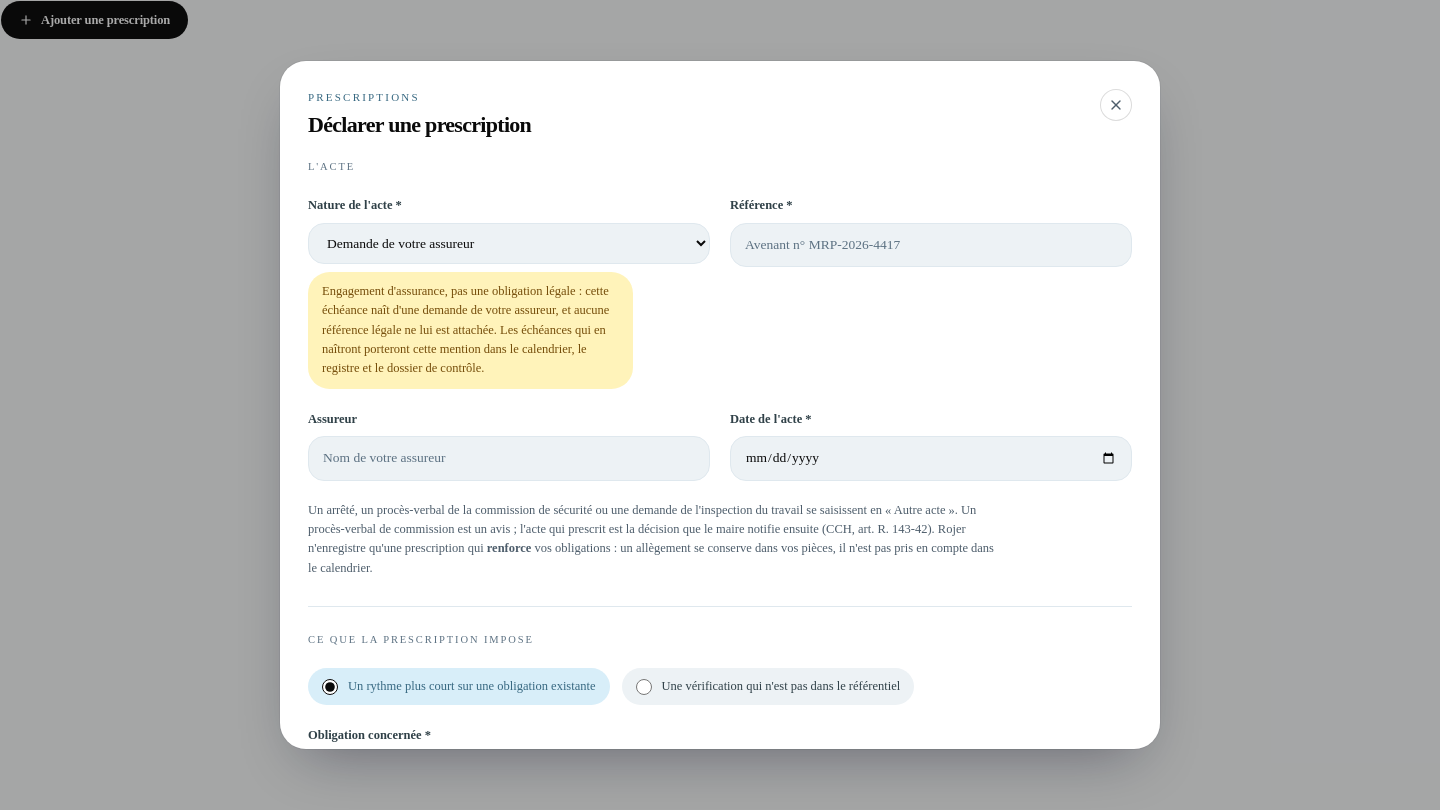
Test: NouvellePrescription › la croix ferme la modal
Click the button named "Fermer". click: [1116, 105]
box: [1100,89,1132,121]
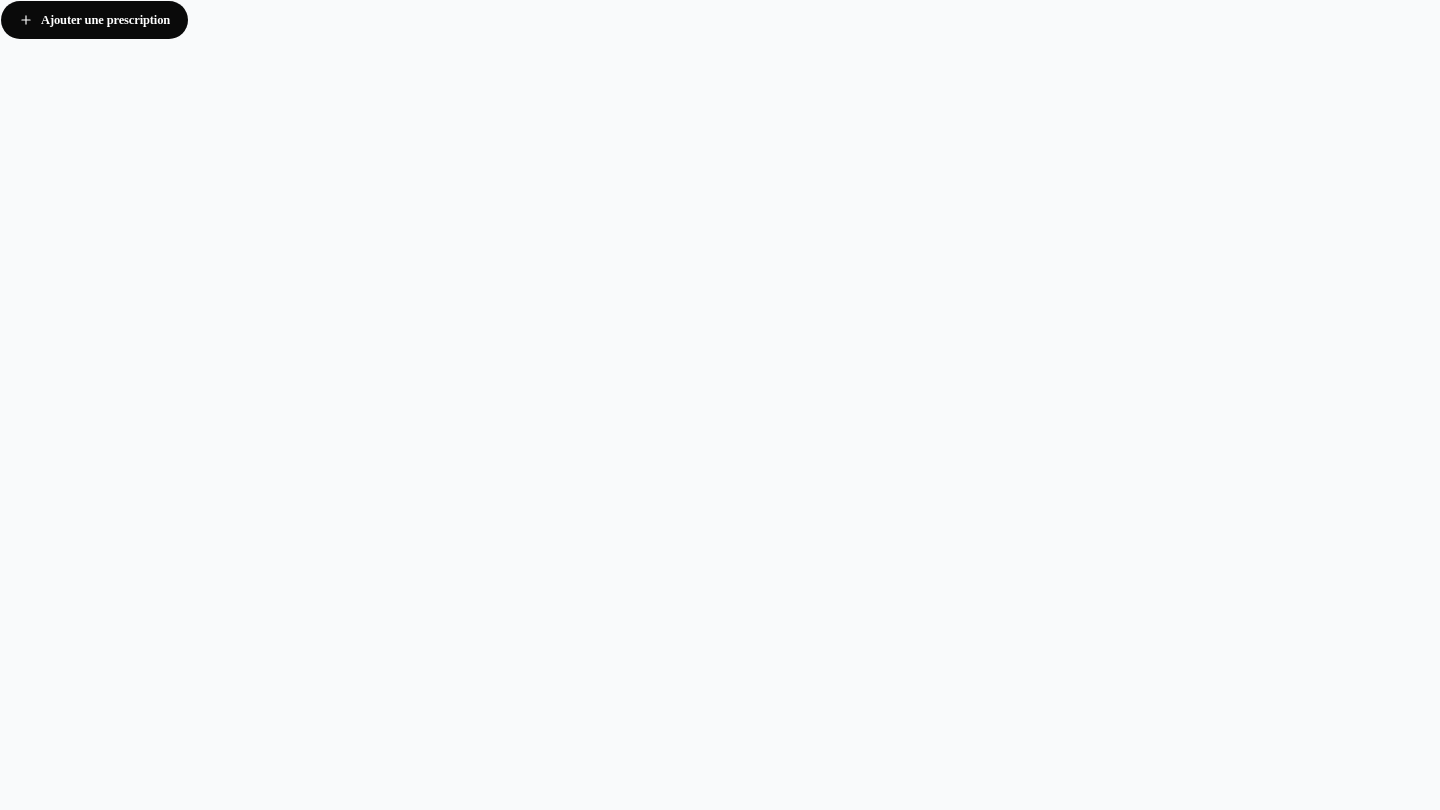
Expected: the dialog is gone
